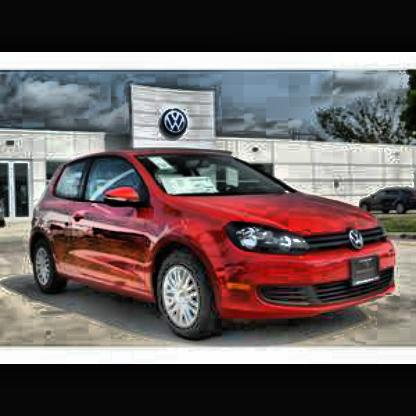Volkswagen Golf Hatchback 2012: (30, 149, 400, 344)
